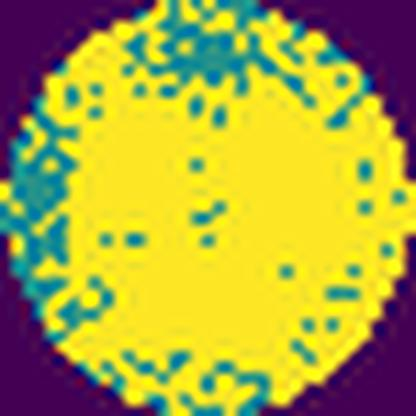Near-full: (64, 24, 416, 415)
